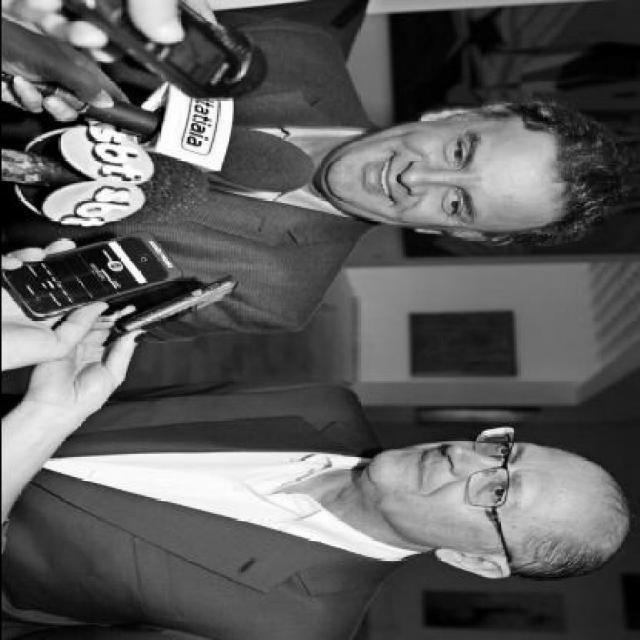fake: (1, 233, 184, 321)
real: (315, 114, 570, 238), (365, 436, 616, 546)
